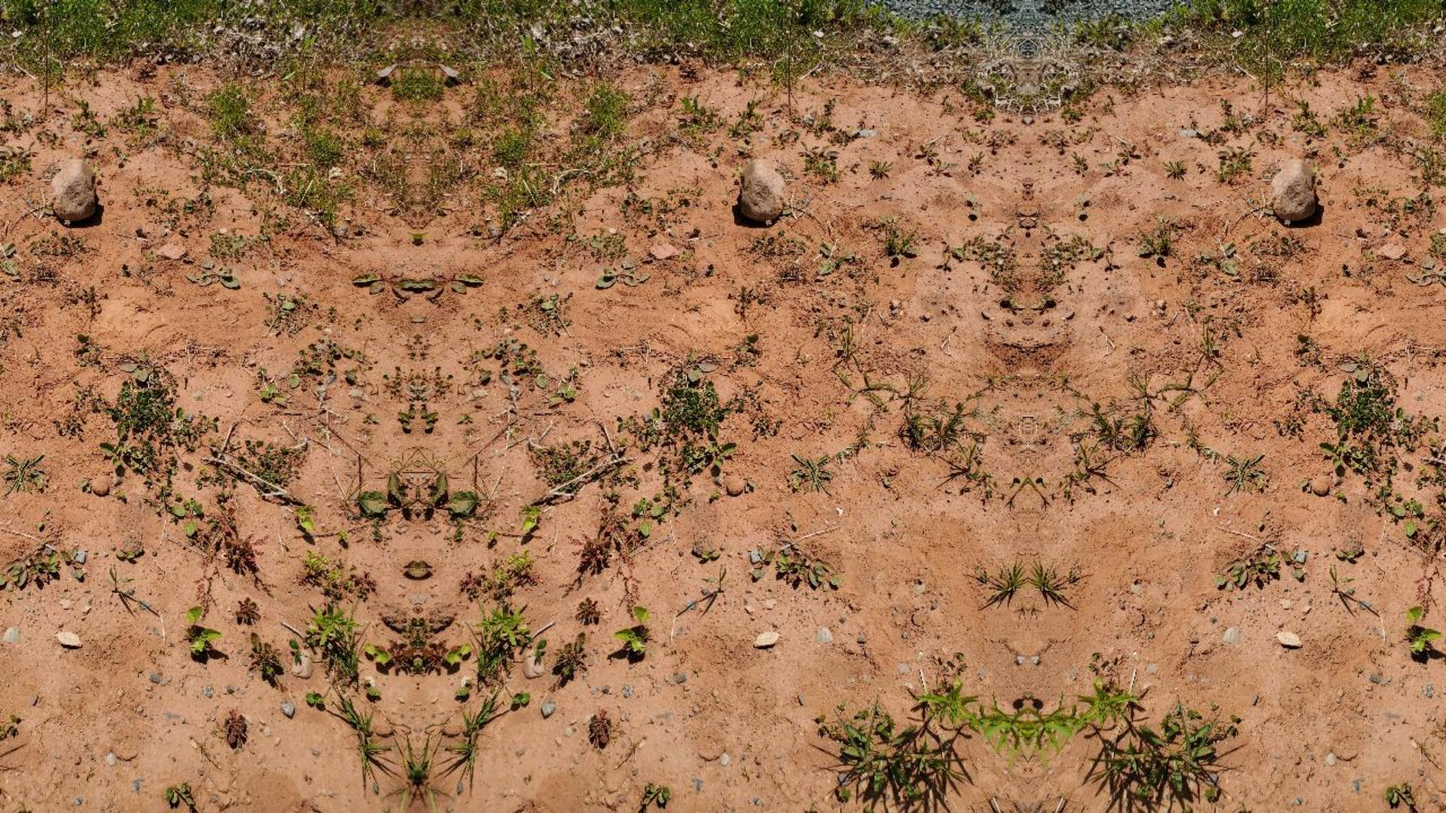rock: (738, 159, 784, 224), (1270, 159, 1317, 222), (50, 159, 96, 221)
